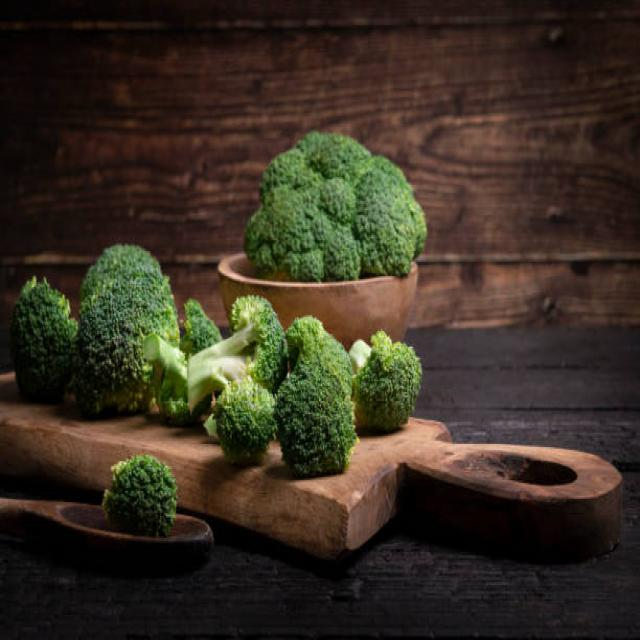Broccoli head: (246, 128, 420, 262), (0, 257, 92, 419), (92, 213, 155, 431), (281, 316, 357, 487), (186, 307, 265, 464), (80, 453, 199, 536), (352, 322, 428, 451)
